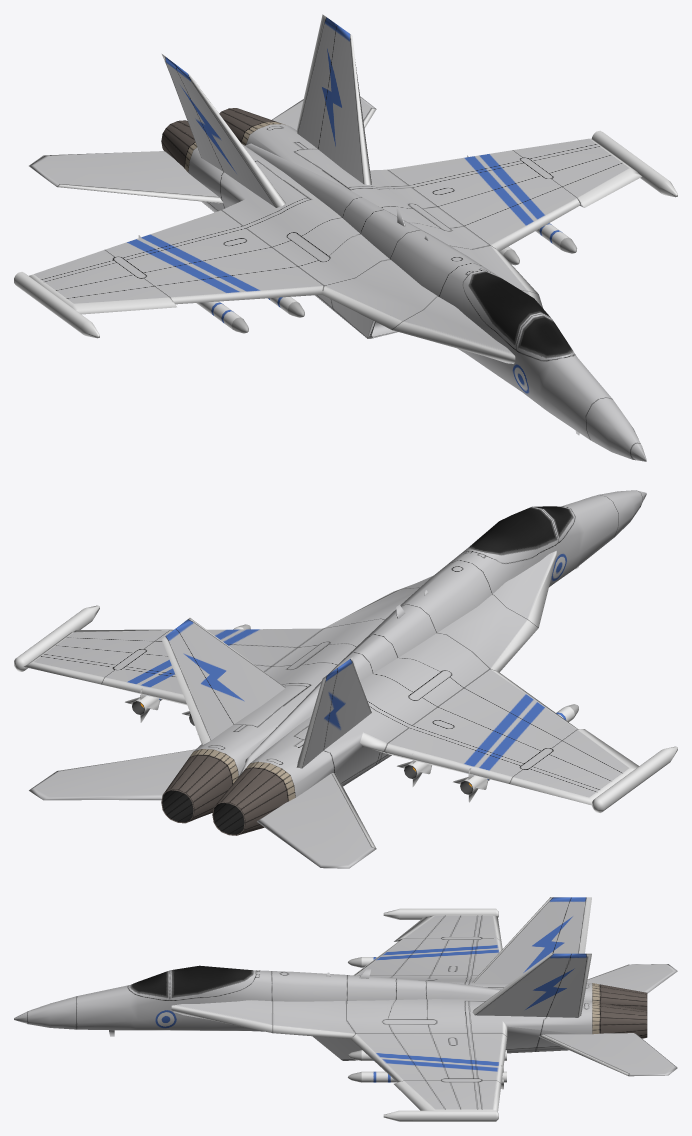
Rendered from Fighter_Jet.fbx.
3 renders of one model, top to bottom at view 1: azimuth 30°, elevation 25°; view 2: azimuth 150°, elevation 25°; view 3: azimuth 270°, elevation 25°, orthographic. The views are drawn at different scales.
Visible parts, largest first — view 1: pCylinder5; view 2: pCylinder5; view 3: pCylinder5.
Boxes of the visible parts, x1,y1,x2,y2 form: pCylinder5: [14, 14, 677, 461]; pCylinder5: [14, 490, 677, 868]; pCylinder5: [14, 897, 677, 1121].
Bounding box in the file's own units: 15.65 × 4.23 × 21.31.
